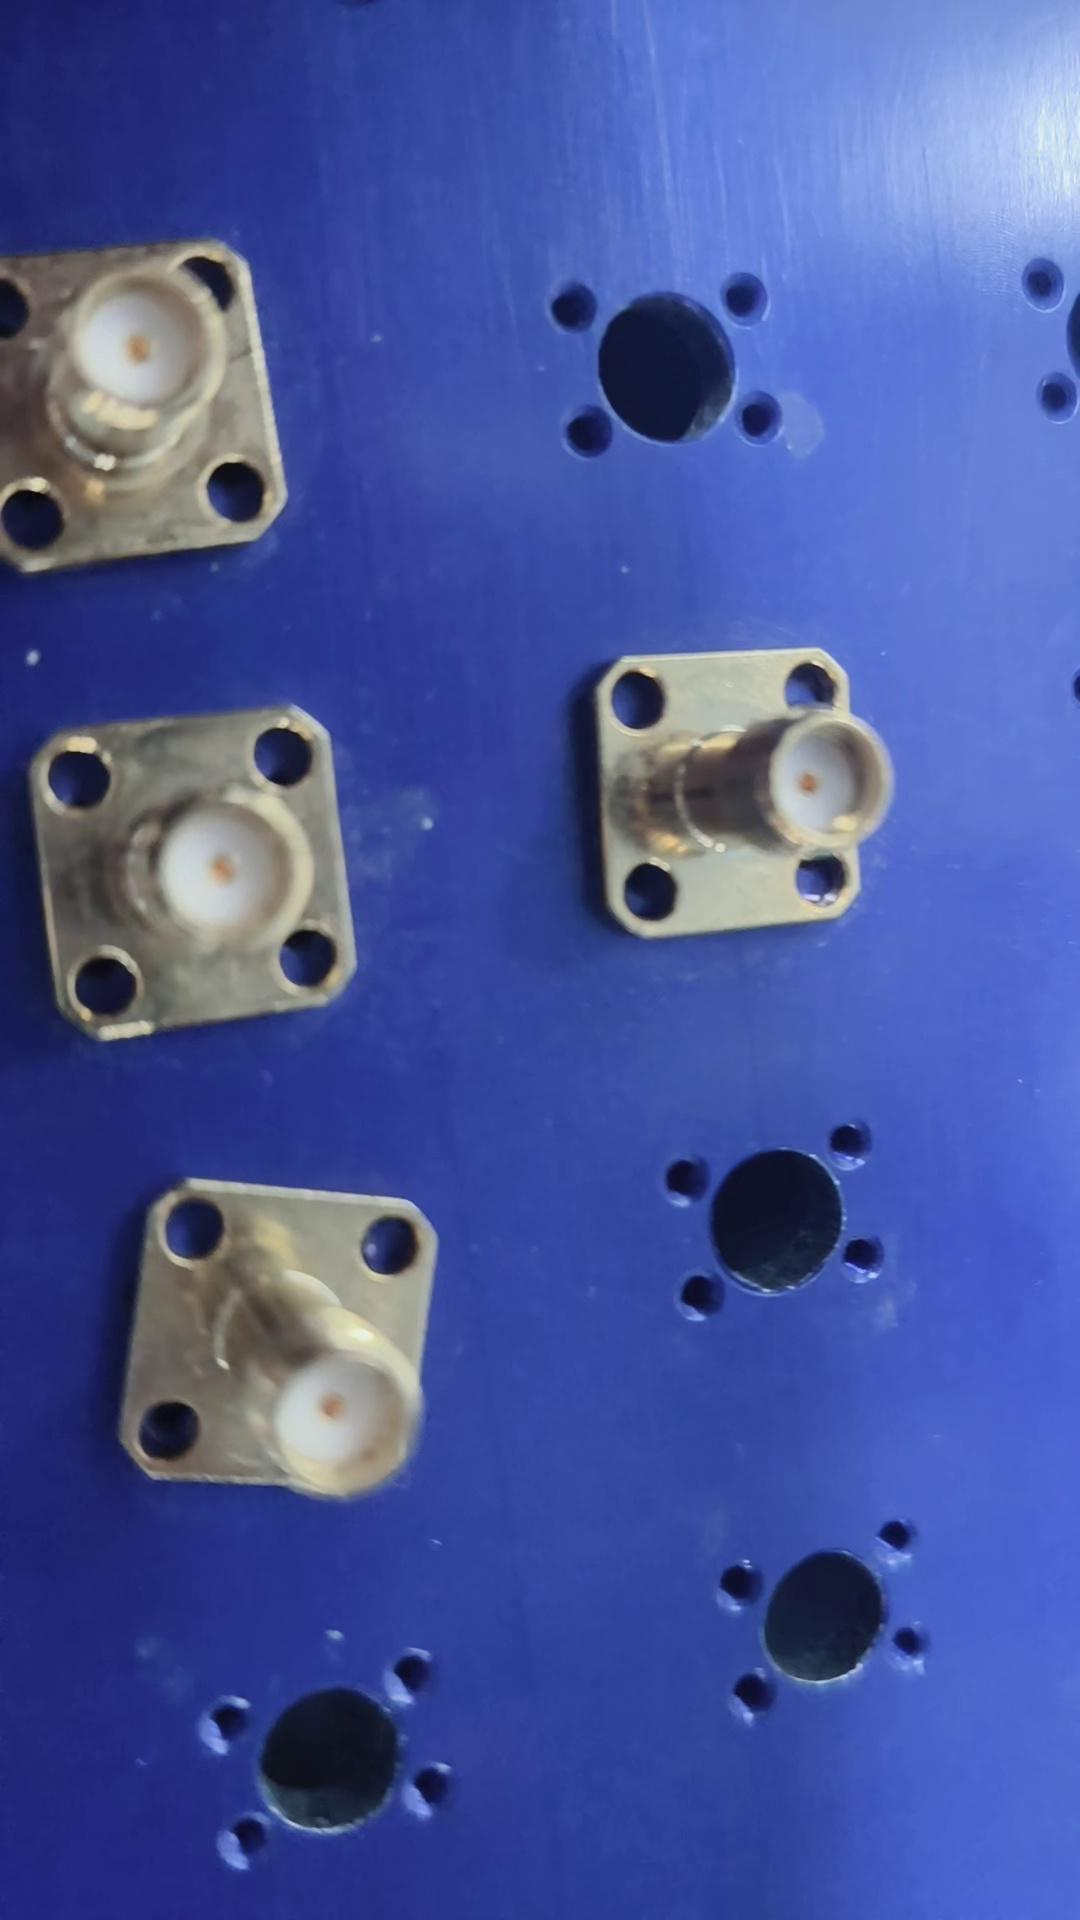SMA: (36, 709, 361, 1042), (111, 1185, 465, 1490), (1, 233, 301, 584), (578, 632, 891, 945)
